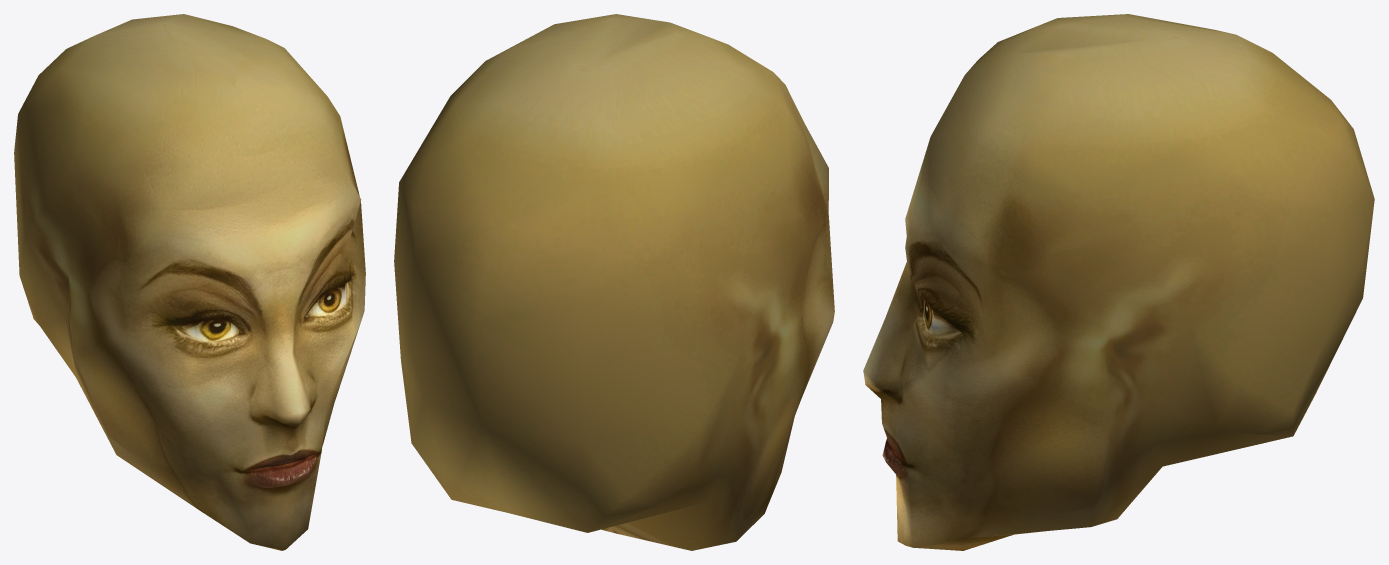
The model's file is b_n_high elf_f_head_02.glb.
3 views of the same model, side by side, from view 1: azimuth 30°, elevation 25°; view 2: azimuth 150°, elevation 25°; view 3: azimuth 270°, elevation 25° (orthographic). The views are drawn at different scales.
Visible parts, largest first — view 1: Tri B_N_High Elf_F_Head_02; view 2: Tri B_N_High Elf_F_Head_02; view 3: Tri B_N_High Elf_F_Head_02.
Boxes of the visible parts, bbox=[...] form: Tri B_N_High Elf_F_Head_02: bbox=[14, 14, 365, 550]; Tri B_N_High Elf_F_Head_02: bbox=[394, 14, 834, 550]; Tri B_N_High Elf_F_Head_02: bbox=[863, 14, 1374, 550].
Size of the model in its own units: 0.0969 by 0.1523 by 0.1389.
1 material, 1 textured.
